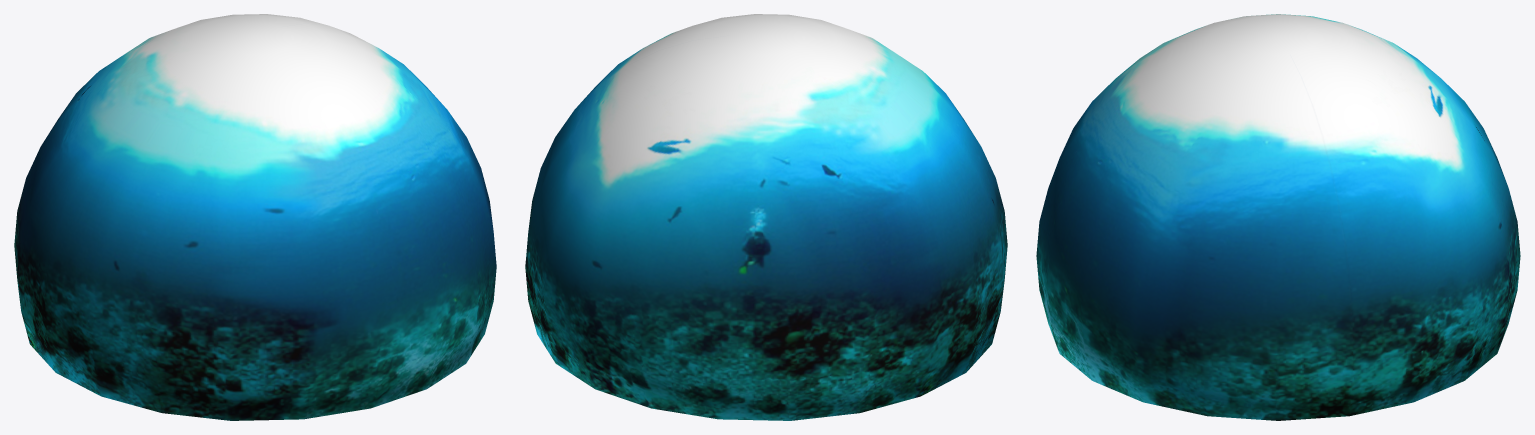
The model's file is EnvSph.fbx.
The picture shows the model from 3 angles, left to right: view 1: azimuth 30°, elevation 25°; view 2: azimuth 150°, elevation 25°; view 3: azimuth 270°, elevation 25°; orthographic projection.
Parts seen in each view (by area): view 1: pSphere1; view 2: pSphere1; view 3: pSphere1.
Part boxes in pixels (<box>): pSphere1: <box>14,14,496,420</box>; pSphere1: <box>525,14,1007,420</box>; pSphere1: <box>1036,14,1520,420</box>.
Bounding box in the file's own units: 179 × 123 × 179.
1 material, 1 textured.
